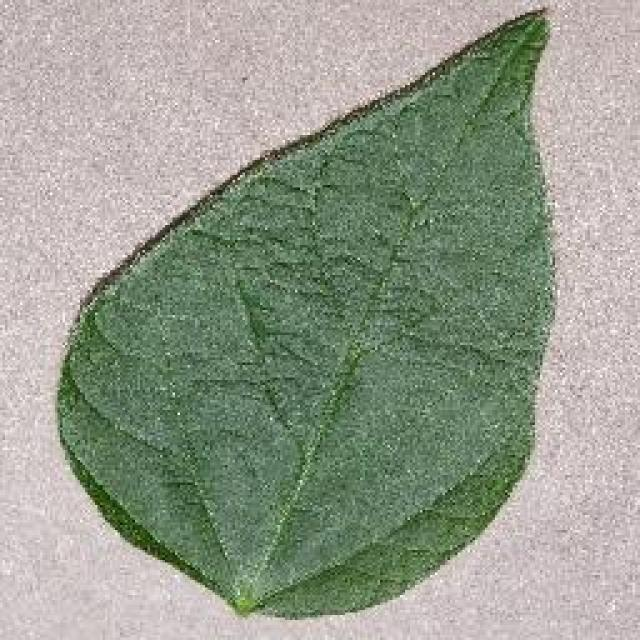Soy_healthy: (96, 66, 536, 593)
